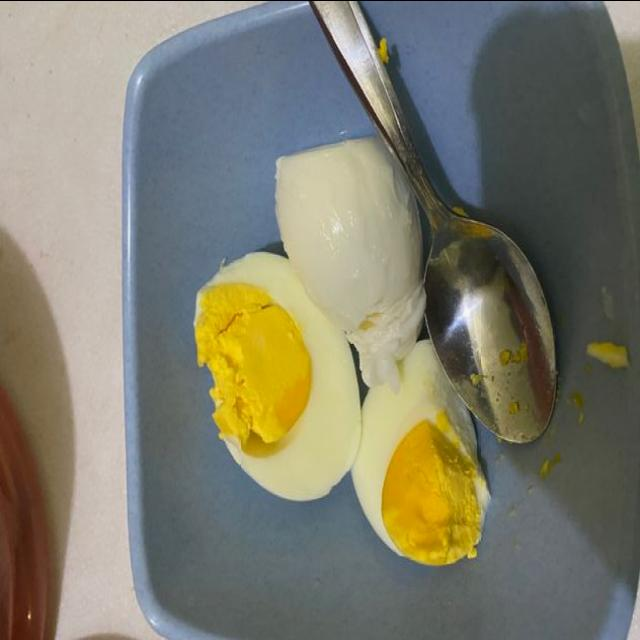telur rebus: (195, 250, 363, 502)
